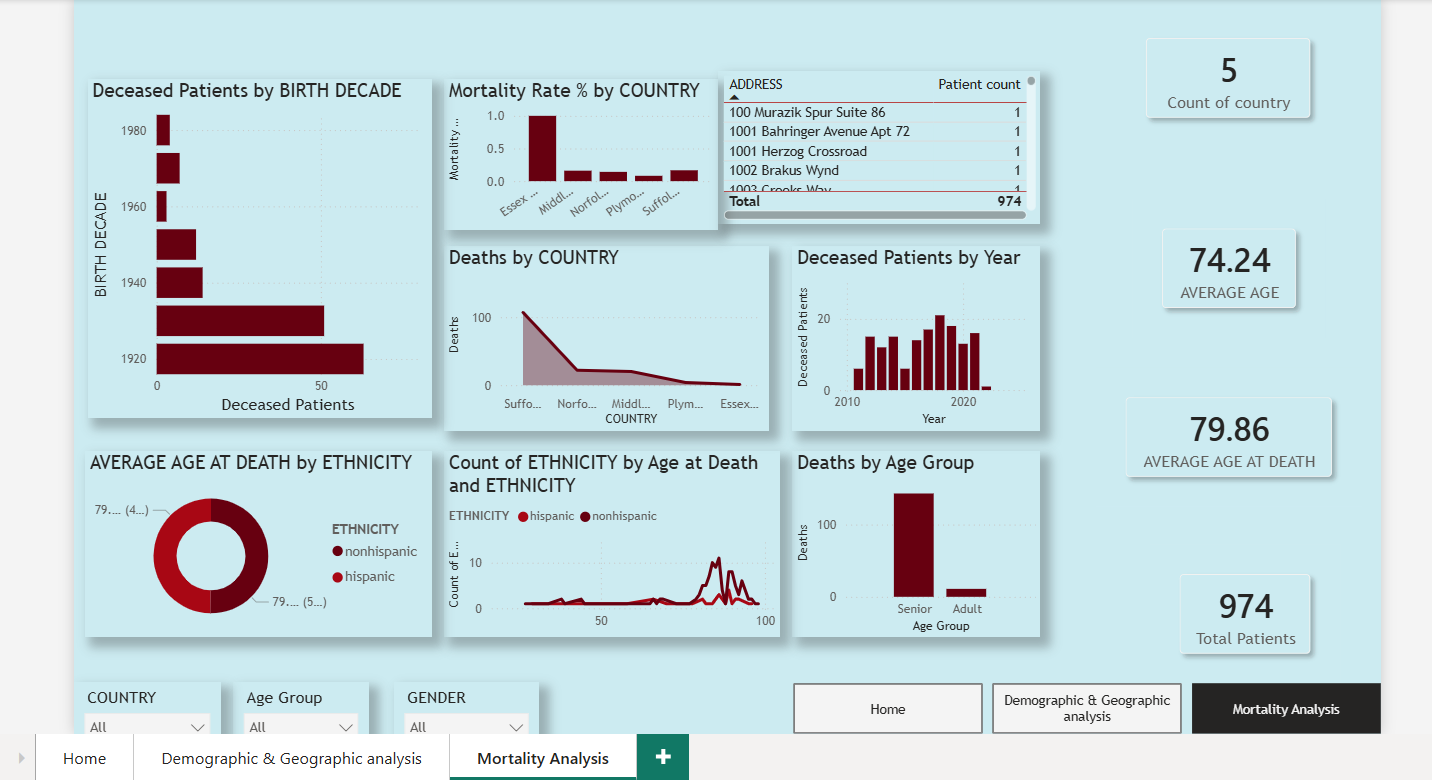

The page's visual inventory and layout, read from the dashboard file:
{"tool":"powerbi","page":{"name":"Mortality Analysis","canvas":[1280,720],"ordinal":2},"visuals":[{"type":"clusteredBarChart","fields":{"Category":["patients.BIRTH DECADE"],"Y":["patients.Deceased Patients"]},"box":[13.4,77.8,336.8,332.7],"z":0},{"type":"areaChart","fields":{"Category":["patients.COUNTY"],"Y":["patients.Deaths"]},"box":[362.2,241.9,318.5,181.1],"z":1000},{"type":"donutChart","fields":{"Category":["patients.ETHNICITY"],"Y":["Parameter.AVERAGE AGE AT DEATH"]},"box":[10.6,442.8,339.7,182.4],"z":2000},{"type":"clusteredColumnChart","fields":{"Category":["patients.COUNTY"],"Y":["patients.Mortality Rate %"]},"box":[361.8,78,268.2,148.2],"z":3000},{"type":"lineChart","fields":{"Category":["patients.Age at Death"],"Y":["CountNonNull(patients.ETHNICITY)"],"Series":["patients.ETHNICITY"]},"box":[362.2,442.8,329.1,182.4],"z":4000},{"type":"cardVisual","fields":{"Data":["Parameter.AVERAGE AGE"]},"box":[1036.3,195.6,189,136.1],"z":5000},{"type":"cardVisual","fields":{"Data":["Parameter.AVERAGE AGE AT DEATH"]},"box":[1000.6,360.8,260.4,136.1],"z":6000},{"type":"cardVisual","fields":{"Data":["patients.Total Patients"]},"box":[1053.5,533.9,186.9,136.2],"z":7000},{"type":"cardVisual","fields":{"Data":["patients.Count of country"]},"box":[1020.4,9.3,219.4,136.1],"z":8000},{"type":"tableEx","fields":{"Values":["patients.ADDRESS","procedures.Patient count"]},"box":[639.7,78,315.9,150.7],"z":9000},{"type":"clusteredColumnChart","fields":{"Category":["patients.Age Group"],"Y":["patients.Deaths"]},"box":[703.2,442.8,252.5,182.4],"z":10000},{"type":"slicer","fields":{"Values":["patients.COUNTY"]},"box":[0,669.1,143.5,51.5],"z":11000},{"type":"slicer","fields":{"Values":["patients.Age Group"]},"box":[156,669.1,132.6,51.5],"z":12000},{"type":"slicer","fields":{"Values":["patients.GENDER"]},"box":[313.5,669.1,141.9,51.5],"z":13000},{"type":"clusteredColumnChart","fields":{"Category":["patients.DEATHDATE.Variation.Date Hierarchy.Year"],"Y":["patients.Deceased Patients"]},"box":[703.2,241.9,252.5,181.1],"z":14000},{"type":"pageNavigator","box":[704.9,670.6,575.5,49.9],"z":15000}]}

Visuals, with their boxes on the page's 1280x720 design canvas (x1, y1, x2, y2). These are canvas units, not pixel positions in the 1432x780 screenshot, which may show the page scaled, cropped or inside an application window:
clusteredBarChart - patients.BIRTH DECADE x patients.Deceased Patients: 13:78:350:410
areaChart - patients.COUNTY x patients.Deaths: 362:242:681:423
donutChart - patients.ETHNICITY x Parameter.AVERAGE AGE AT DEATH: 11:443:350:625
clusteredColumnChart - patients.COUNTY x patients.Mortality Rate %: 362:78:630:226
lineChart - patients.Age at Death x CountNonNull(patients.ETHNICITY): 362:443:691:625
cardVisual - Parameter.AVERAGE AGE: 1036:196:1225:332
cardVisual - Parameter.AVERAGE AGE AT DEATH: 1001:361:1261:497
cardVisual - patients.Total Patients: 1054:534:1240:670
cardVisual - patients.Count of country: 1020:9:1240:145
tableEx - patients.ADDRESS x procedures.Patient count: 640:78:956:229
clusteredColumnChart - patients.Age Group x patients.Deaths: 703:443:956:625
slicer - patients.COUNTY: 0:669:144:721
slicer - patients.Age Group: 156:669:289:721
slicer - patients.GENDER: 314:669:455:721
clusteredColumnChart - patients.DEATHDATE.Variation.Date Hierarchy.Year x patients.Deceased Patients: 703:242:956:423
pageNavigator: 705:671:1280:720
